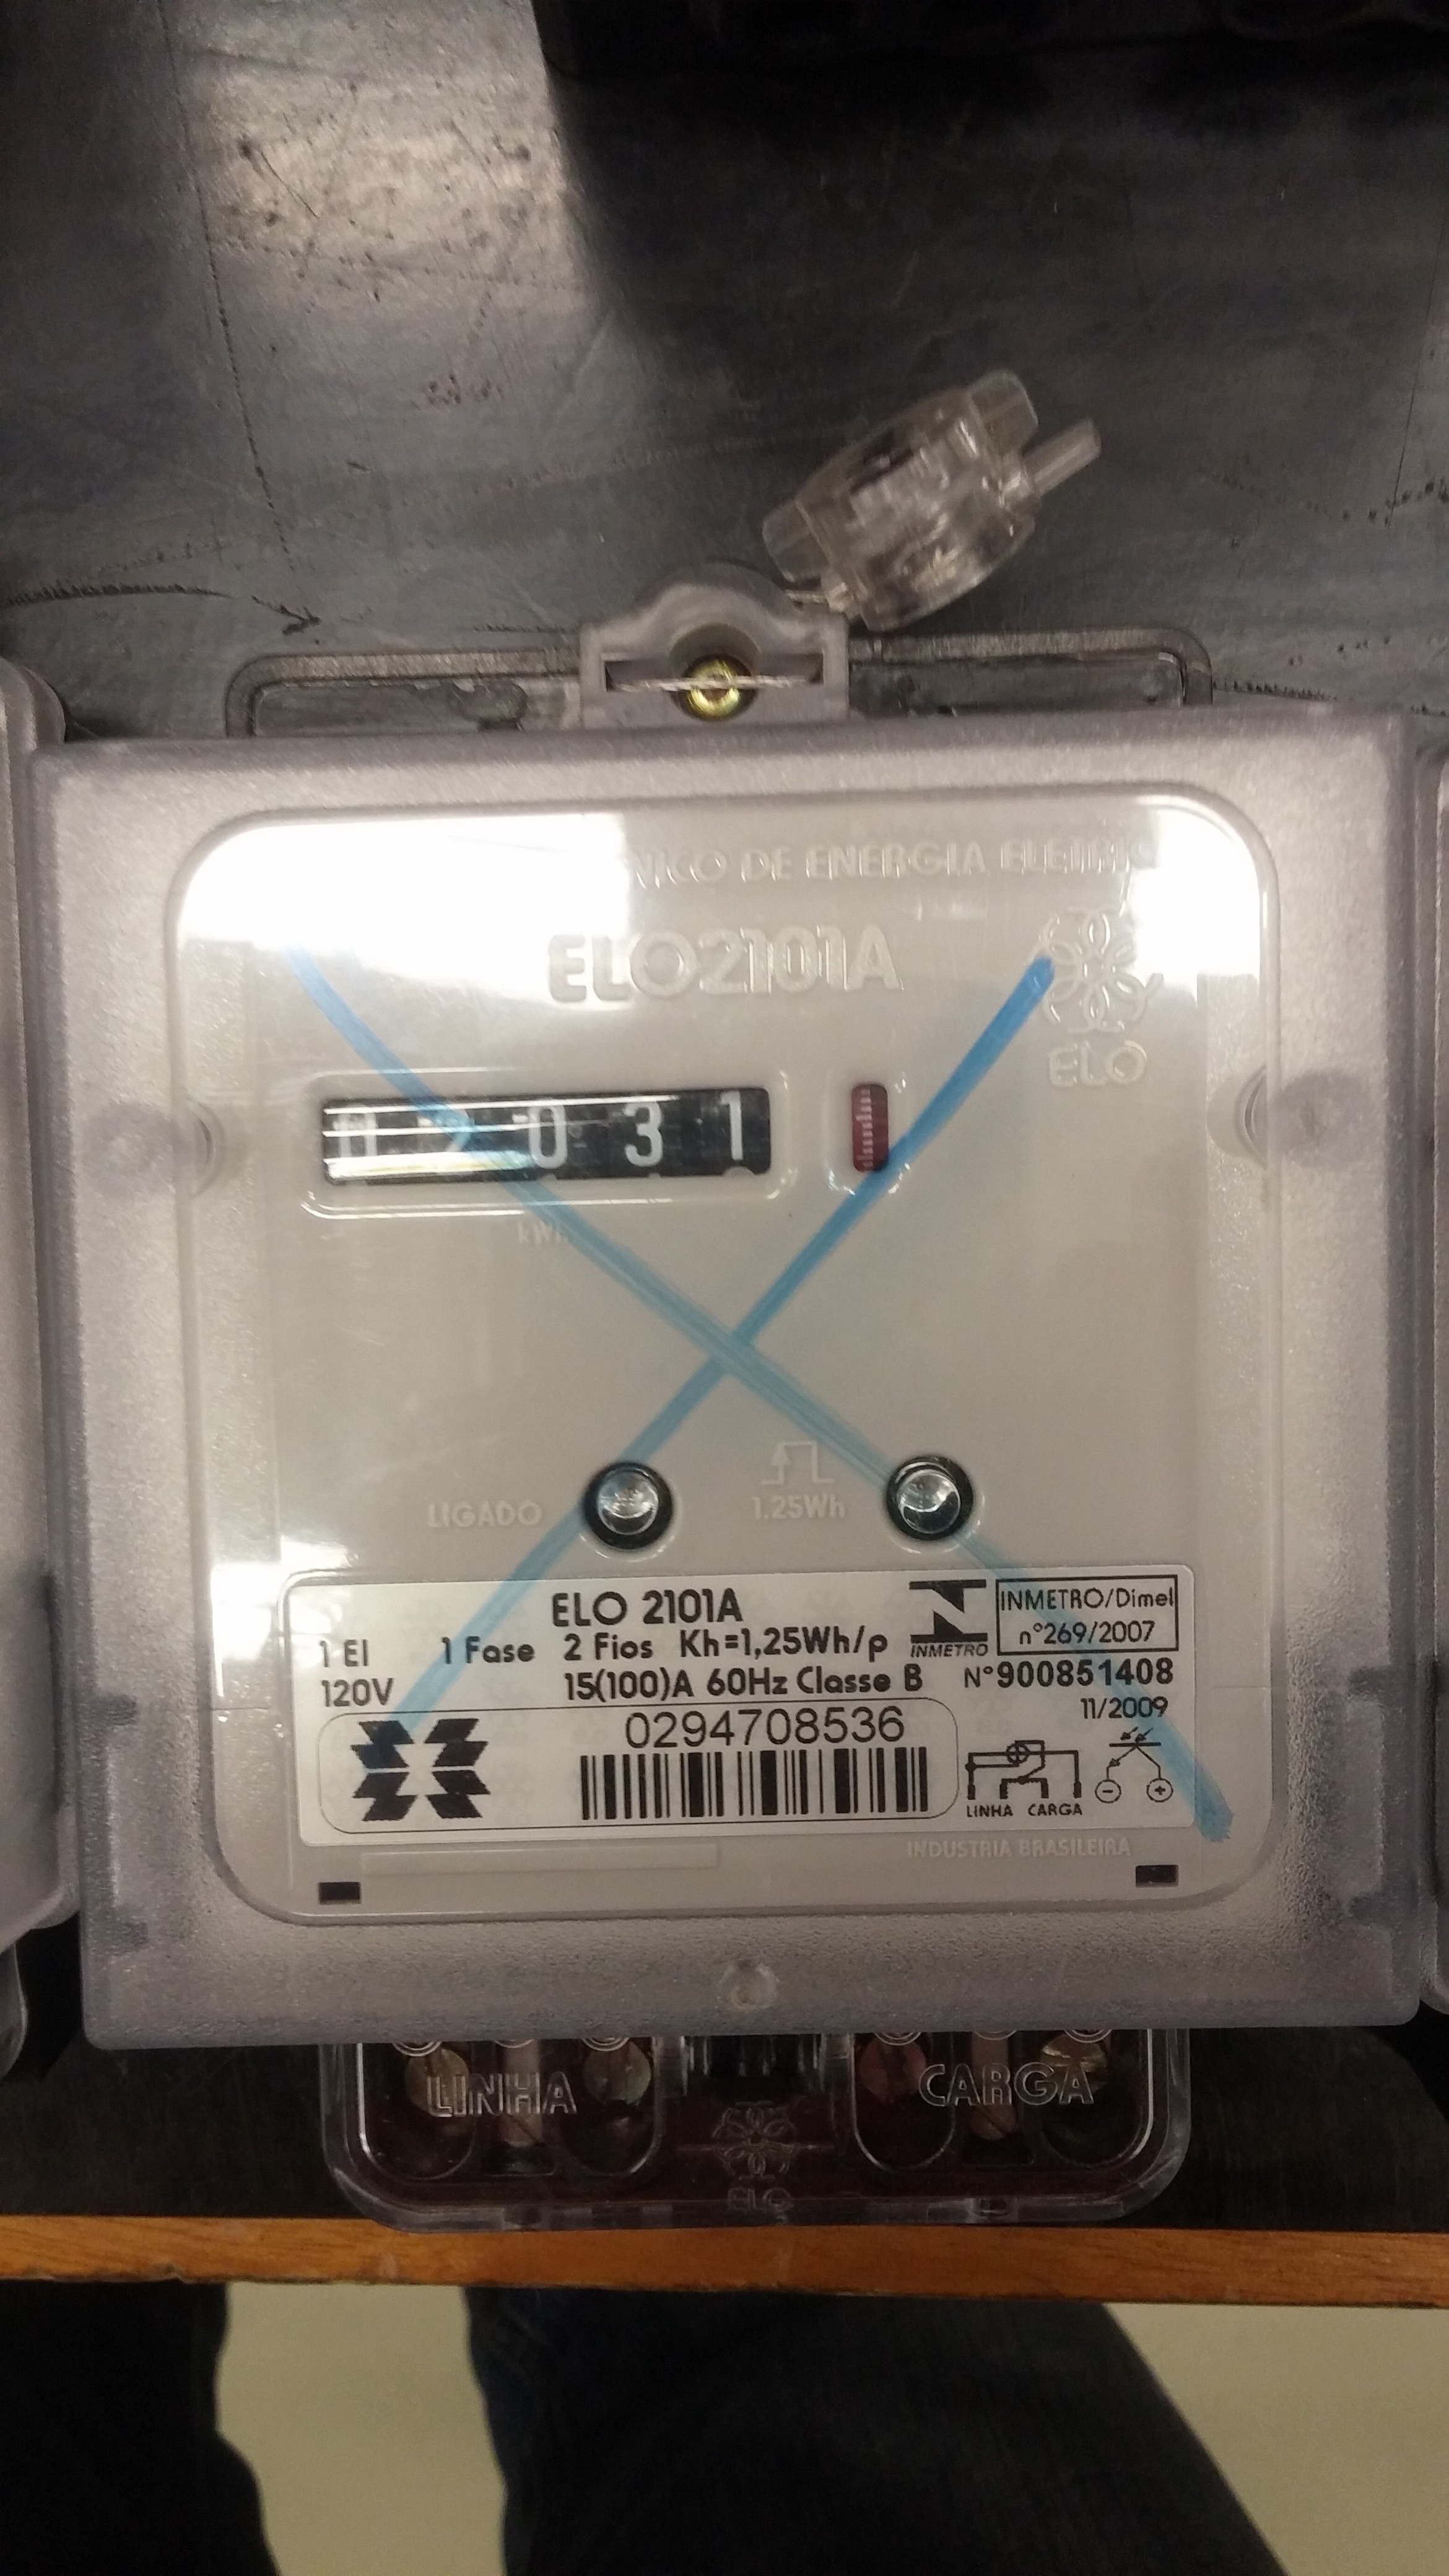counter2: (295, 1069, 798, 1200)
